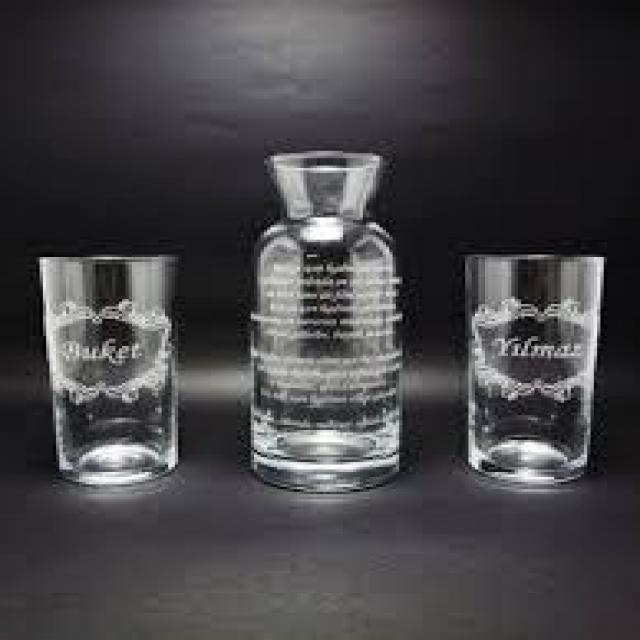glass: (242, 143, 418, 499), (457, 249, 615, 486), (34, 251, 190, 488)
